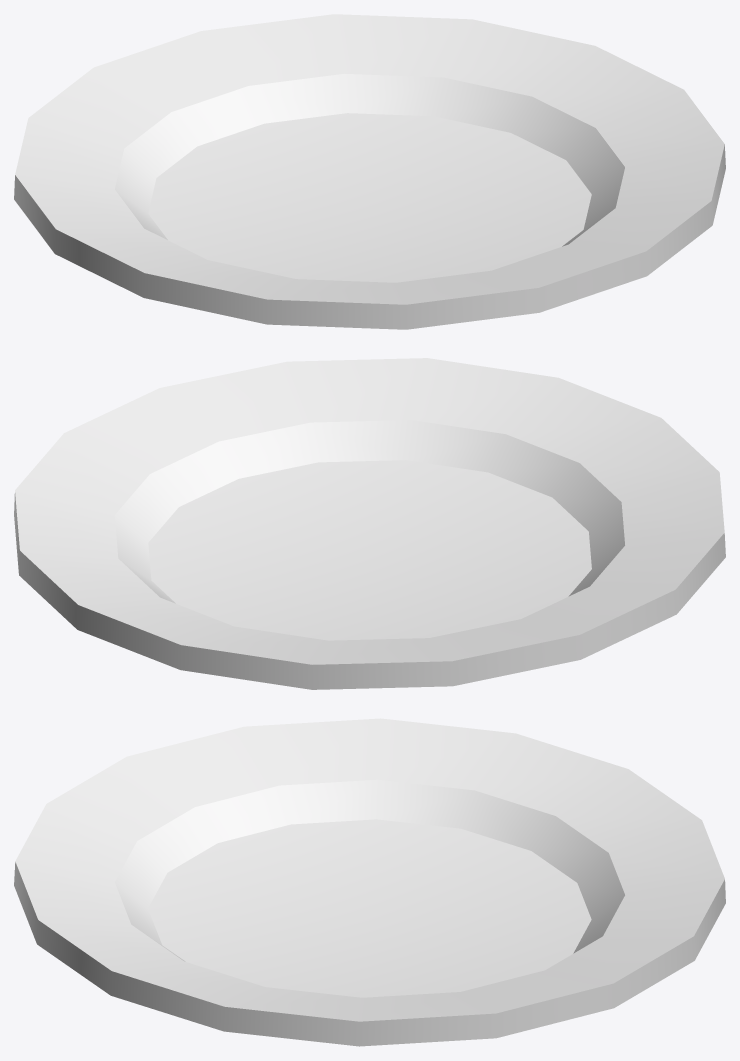
The model's file is Saucer_01.fbx.
3 views of the same model, one above another, from view 1: azimuth 30°, elevation 25°; view 2: azimuth 150°, elevation 25°; view 3: azimuth 270°, elevation 25° (orthographic).
Parts seen in each view (by area): view 1: Saucer_01; view 2: Saucer_01; view 3: Saucer_01.
Part boxes in pixels (box(x1,y1,x2,y2)): Saucer_01: box(14, 14, 725, 329); Saucer_01: box(14, 358, 725, 689); Saucer_01: box(14, 718, 725, 1046).
Bounding box in the file's own units: 53.04 × 6.23 × 53.03.
